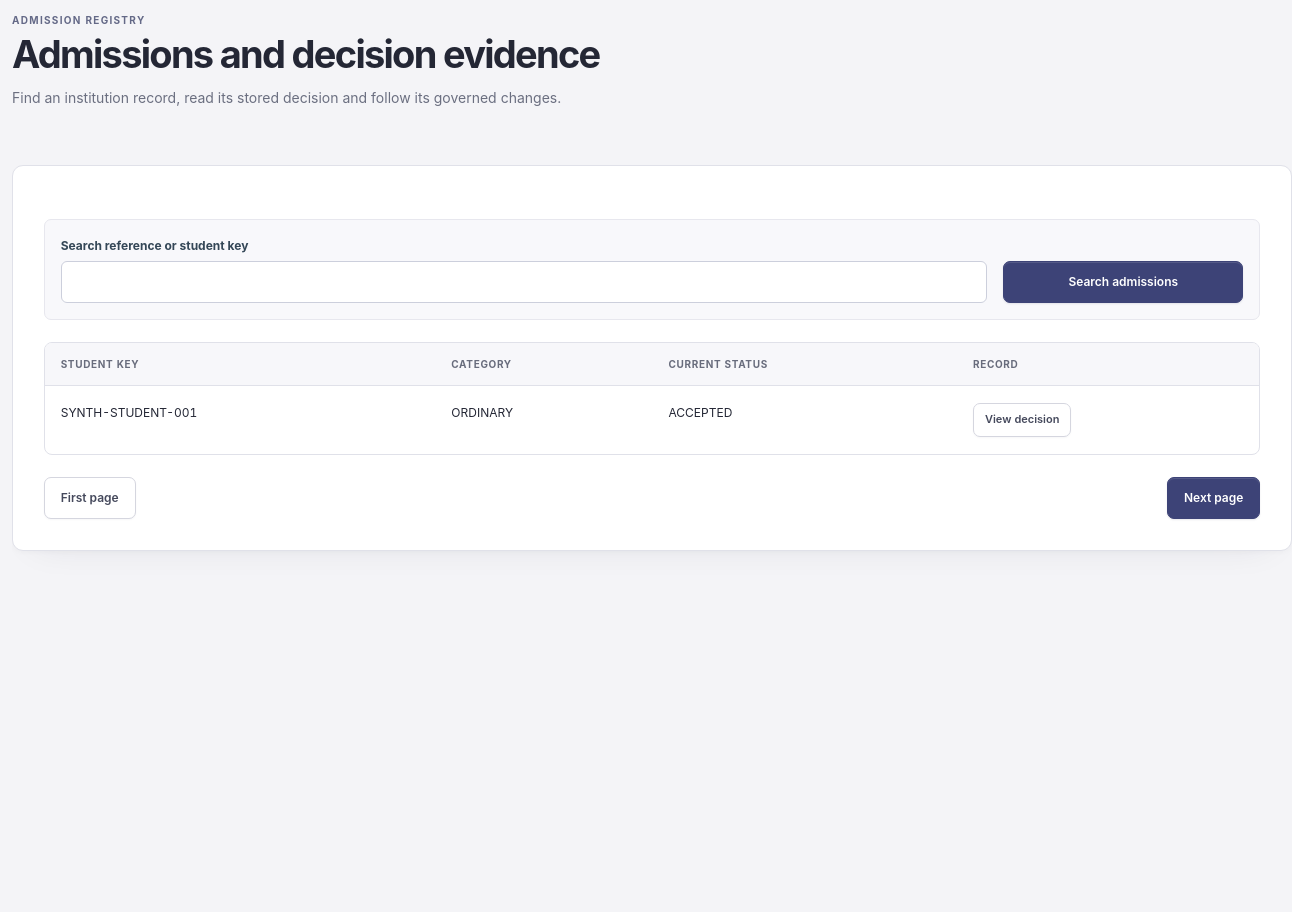
Test: admissions browsing › does not retain a previous record when evidence fails
Check: the text "SYNTH-STUDENT-001" is shown, box left=45, top=385, right=435, bottom=454
Click the button "View decision" at (1022, 420), box left=973, top=403, right=1071, bottom=437
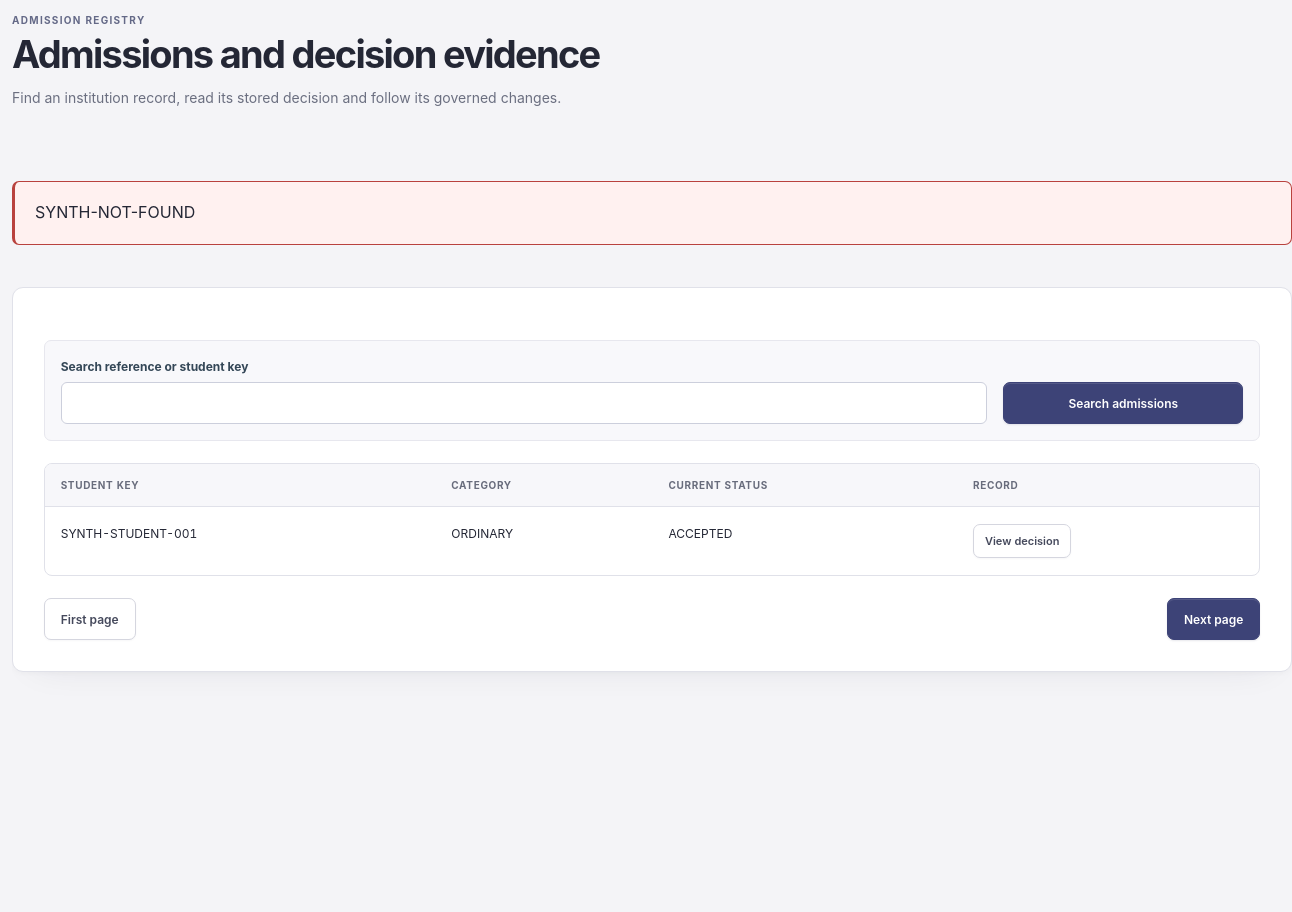
Check: the message reads "SYNTH-NOT-FOUND", box left=35, top=202, right=195, bottom=222
